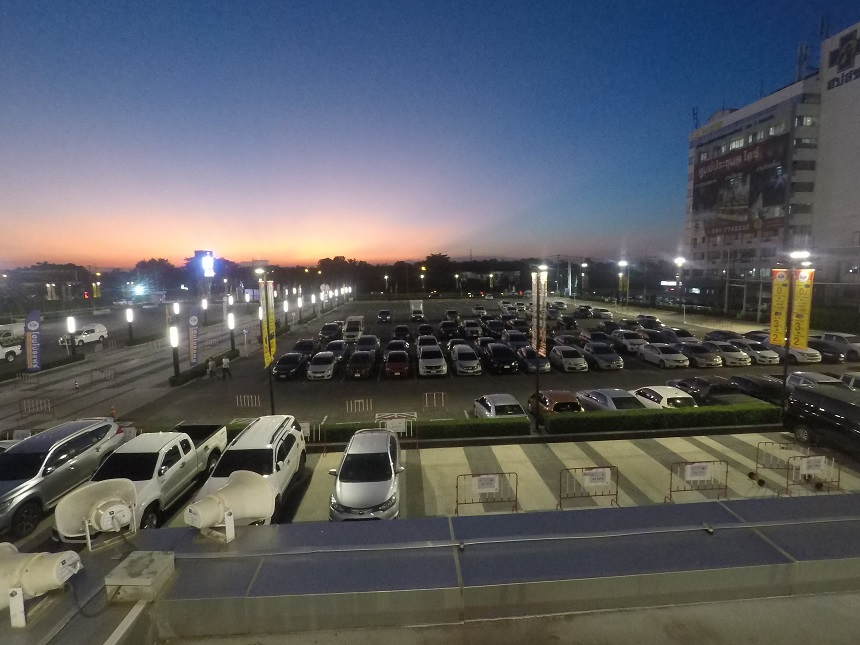busy: (332, 445, 404, 507), (112, 441, 194, 482), (15, 434, 88, 474), (230, 436, 302, 474), (792, 402, 860, 436), (586, 382, 631, 409), (471, 391, 518, 416), (693, 380, 738, 404), (788, 372, 837, 390), (536, 394, 578, 413), (643, 383, 675, 407), (749, 376, 785, 397), (489, 351, 520, 374), (596, 350, 624, 373), (343, 361, 376, 380), (416, 358, 448, 377), (303, 362, 341, 376), (559, 354, 590, 371), (456, 357, 481, 375), (273, 360, 297, 378), (383, 361, 410, 377), (526, 354, 551, 371), (695, 353, 723, 368), (758, 347, 778, 366), (661, 354, 689, 367), (794, 351, 821, 363), (730, 351, 750, 367), (822, 351, 845, 363), (848, 338, 860, 354), (846, 372, 857, 388)
